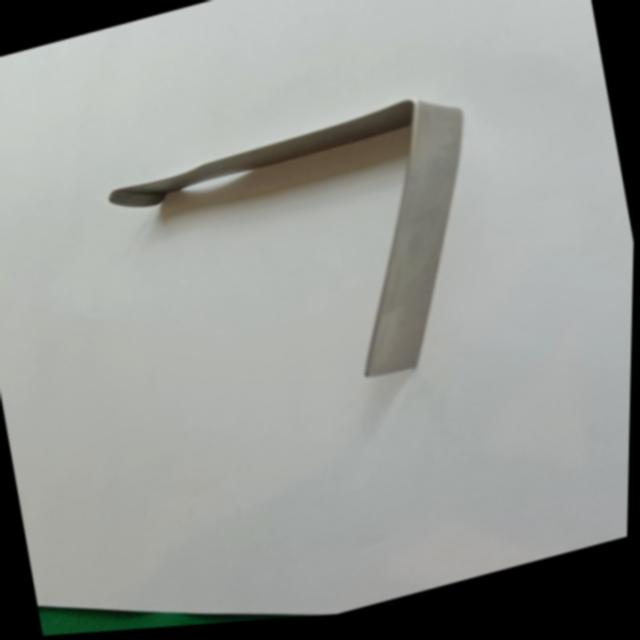AustinRetractor: (79, 76, 522, 458)
